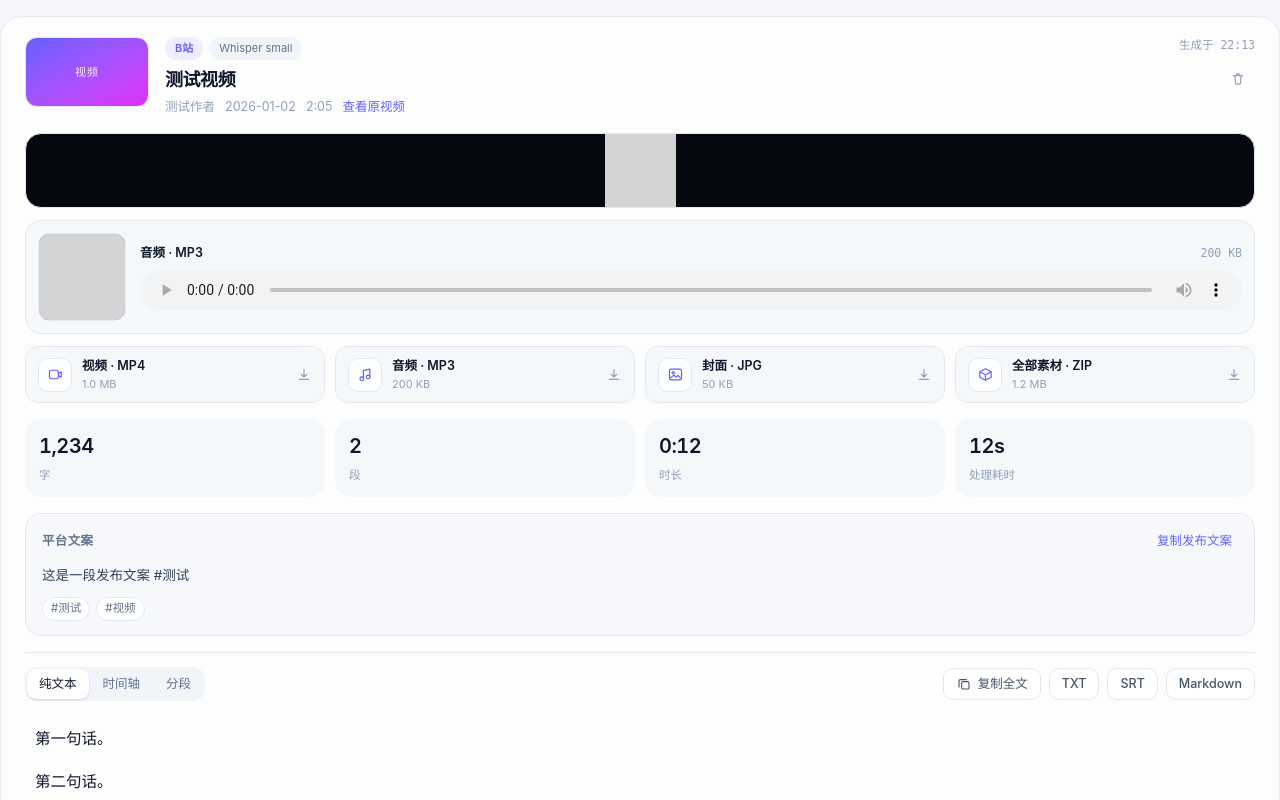
Test: ResultPanel › 可以在纯文本与时间轴之间切换
Expected: the text "第一句话。" is shown, [35,729,112,748]
What coordinates should you click on to do the following:
click the button "时间轴"
I would click on:
 (121, 684)
Its box is [90,668,152,699].
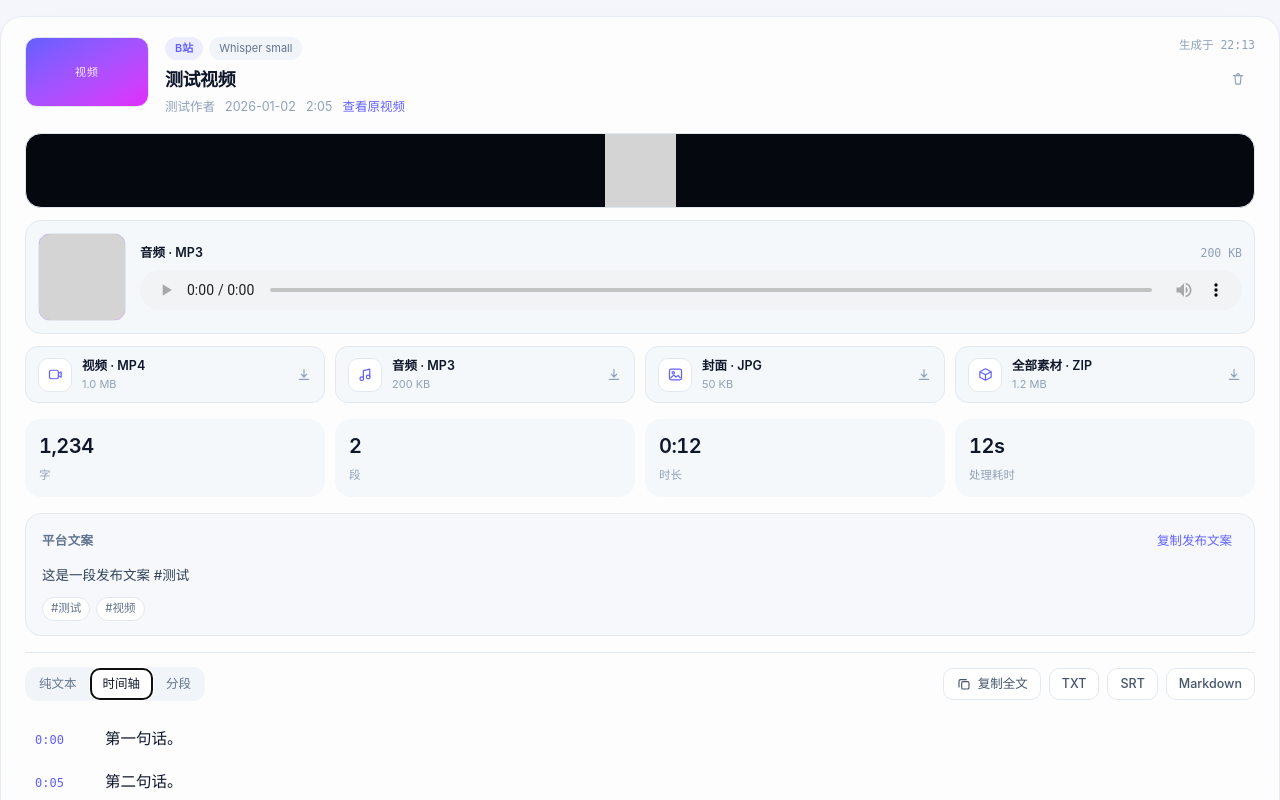
Now the text "0:00" is shown, box [35,733,64,747]
Now the text "0:05" is shown, box [35,776,64,790]
